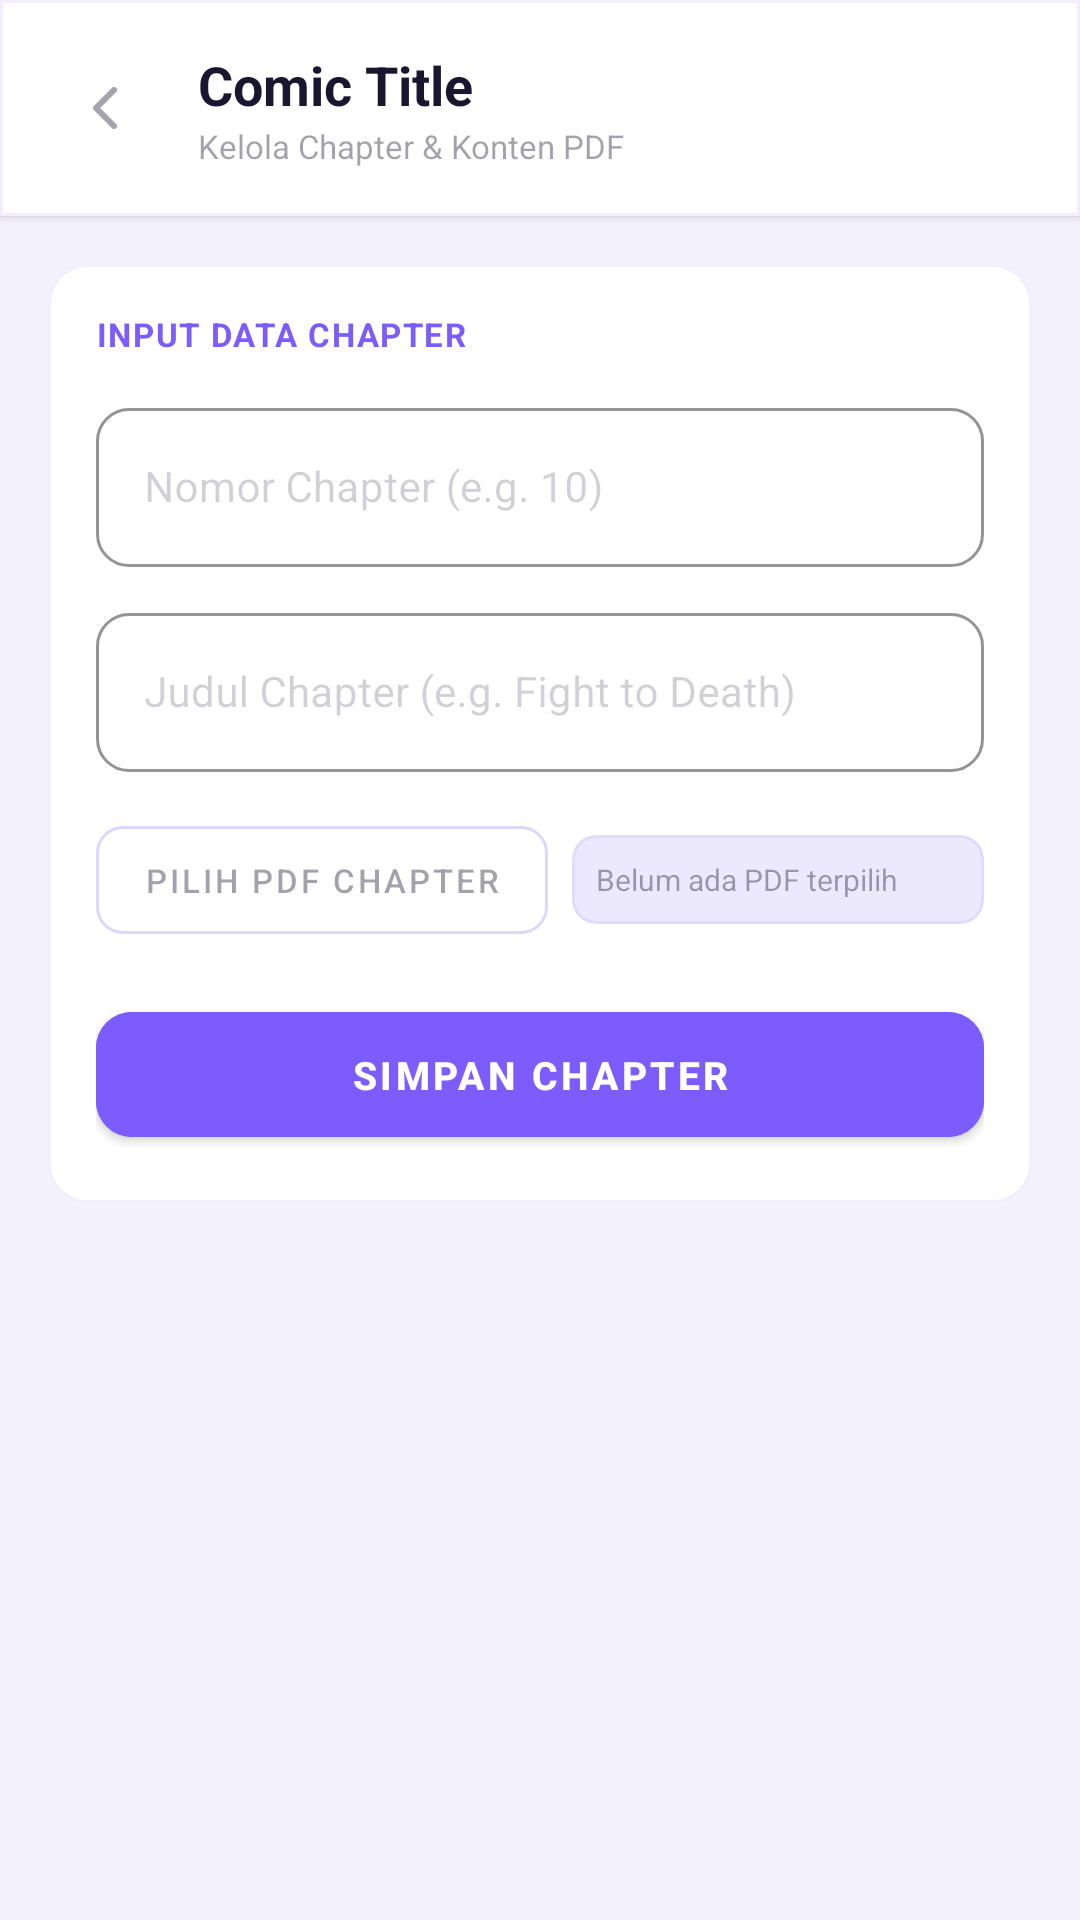

Icons on this 1080 x 1920 Android screen, each with the point to tap as point (x, y):
Kembali: point (105, 108)
